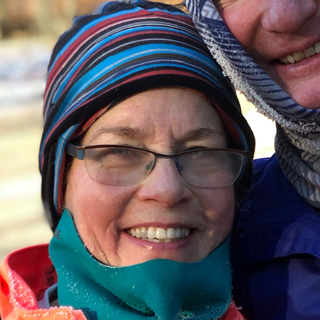eye: (97, 141, 146, 167), (175, 143, 216, 168)
